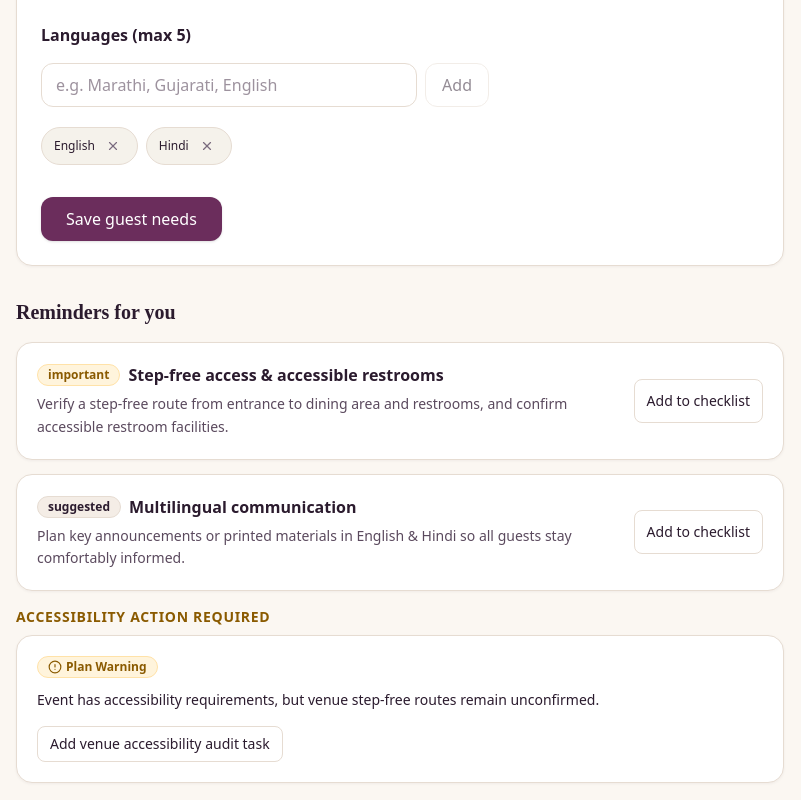
Test: UI: Guests Page & Components (TASK 2 & 4) › adds insight task to checklist and updates button to Already on your checklist
(page scrolled)
Step 1. Click the button "Add to checklist" in the row of "Step-free access & accessible restrooms" → (698, 401), box [634,379,763,423]
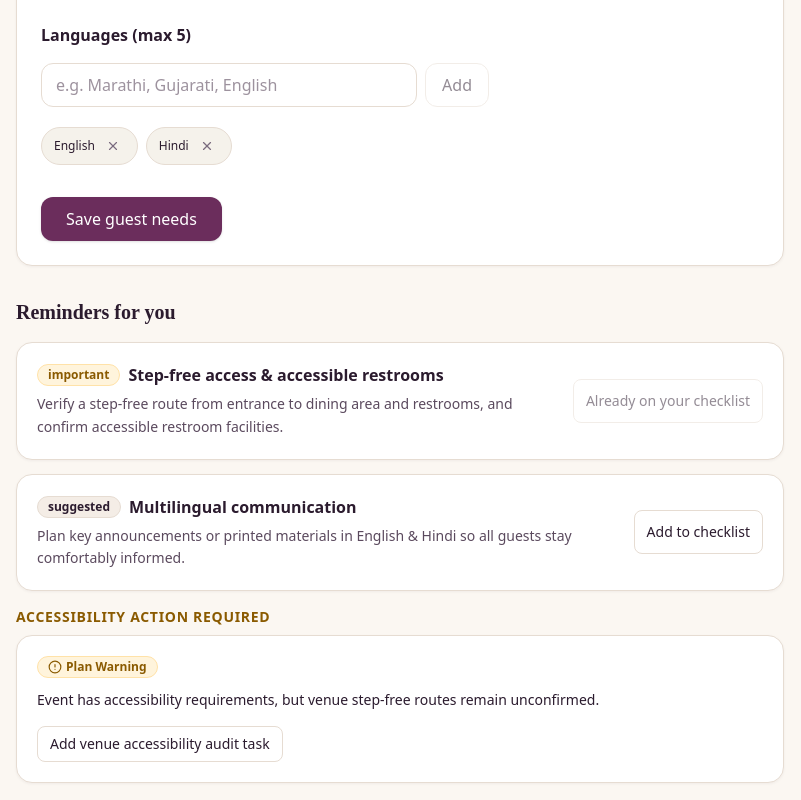
Expected: the button "Already on your checklist" is disabled, [573,379,763,423]
